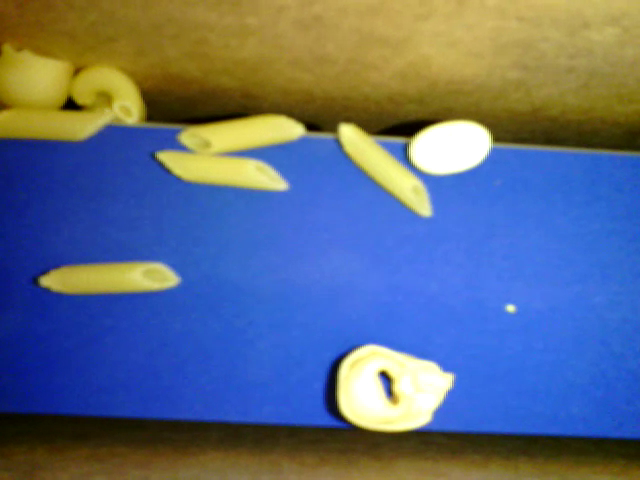elbow: (72, 64, 140, 119)
penne: (337, 122, 433, 217), (155, 149, 289, 190), (175, 114, 306, 155), (36, 261, 180, 293), (1, 108, 113, 141)
shell: (1, 43, 73, 112), (80, 92, 145, 121)
tortellini: (337, 344, 455, 432)
